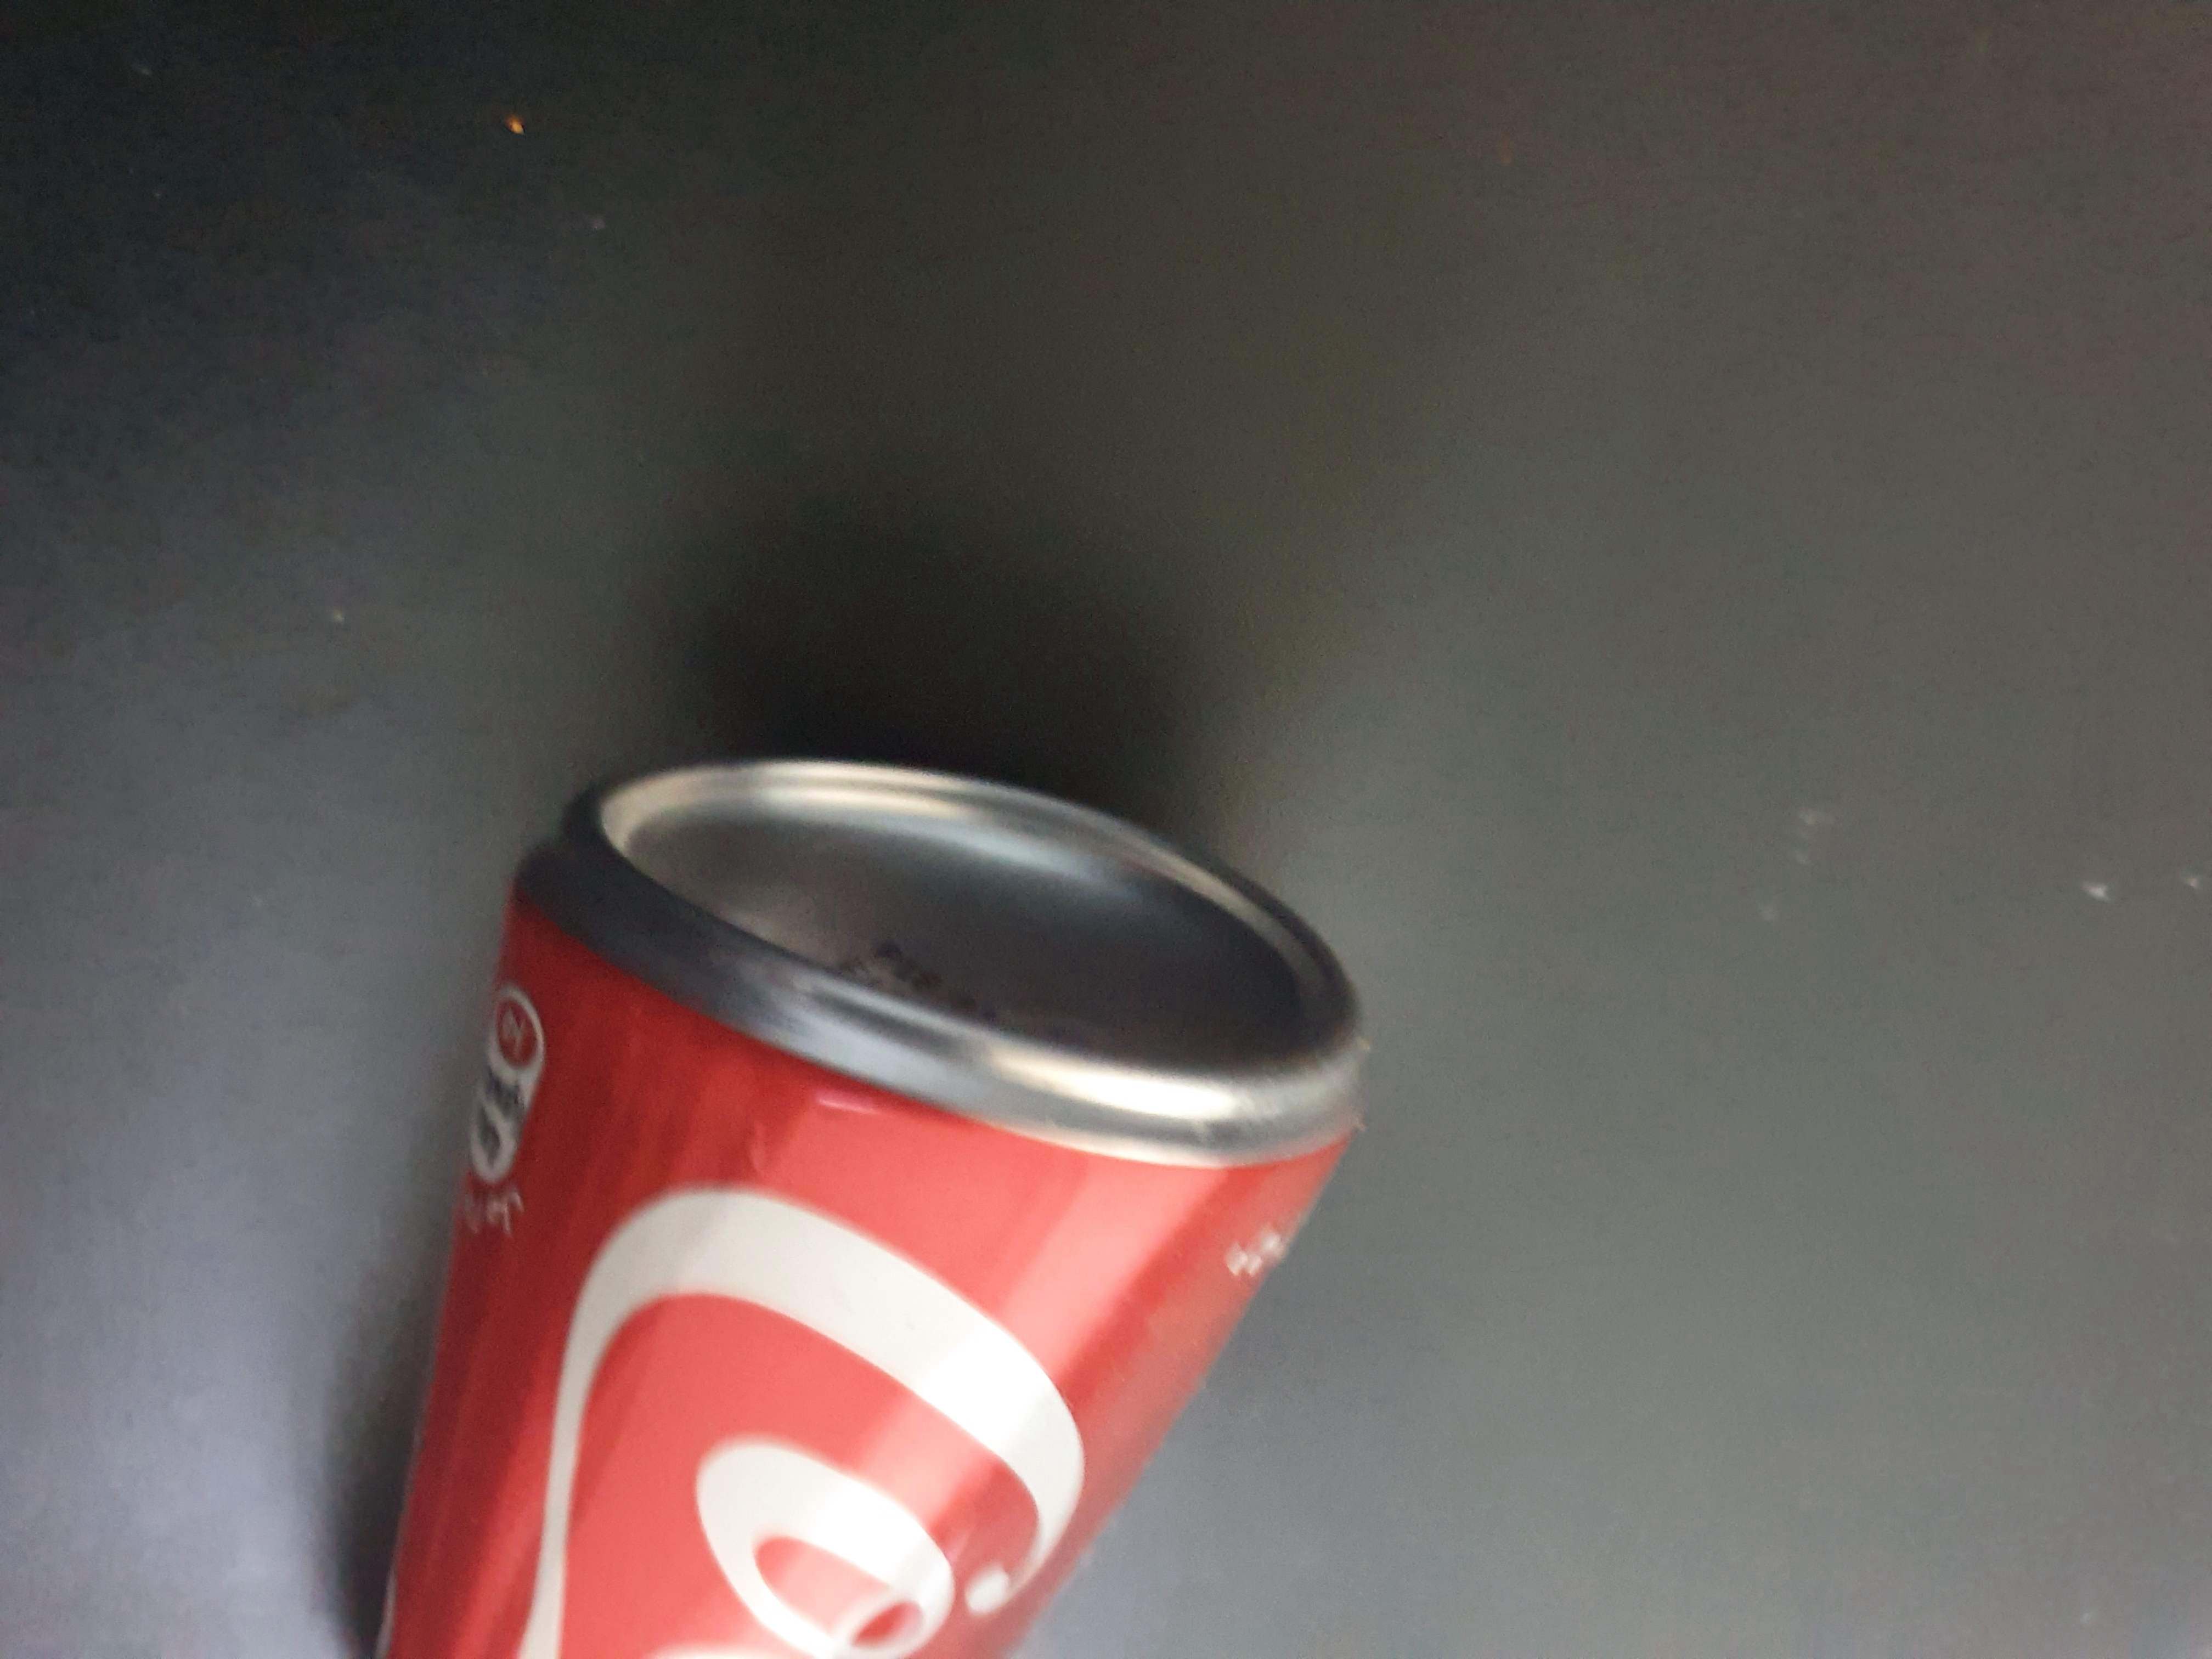metal: (284, 690, 1414, 1659)
